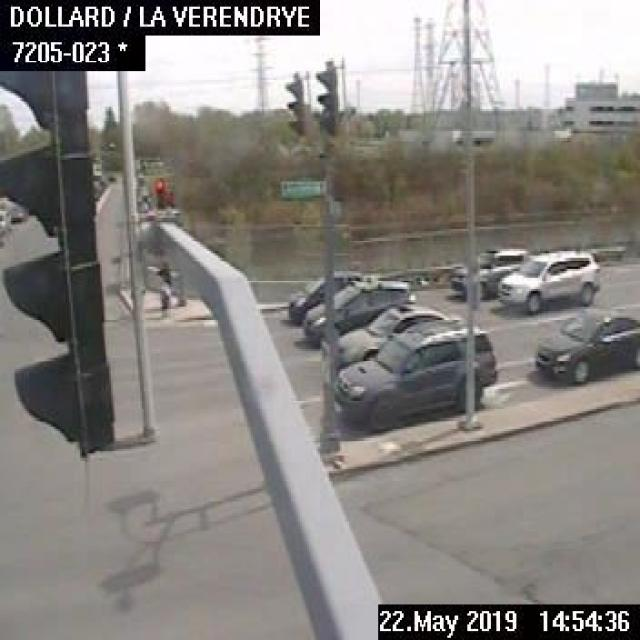pedestrian: (152, 257, 176, 320)
vehicle: (331, 322, 496, 429), (328, 303, 458, 367), (302, 273, 416, 342), (533, 309, 638, 382), (495, 244, 598, 316), (289, 266, 374, 320), (447, 242, 526, 300), (0, 202, 29, 236)
